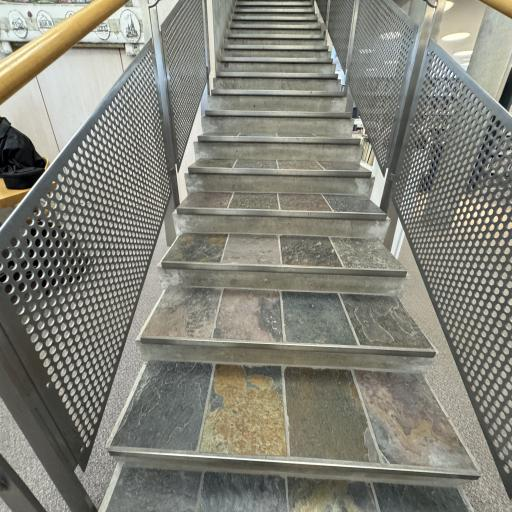Stairs: (105, 0, 479, 512), (108, 313, 479, 486), (139, 238, 436, 372), (185, 158, 373, 198)
